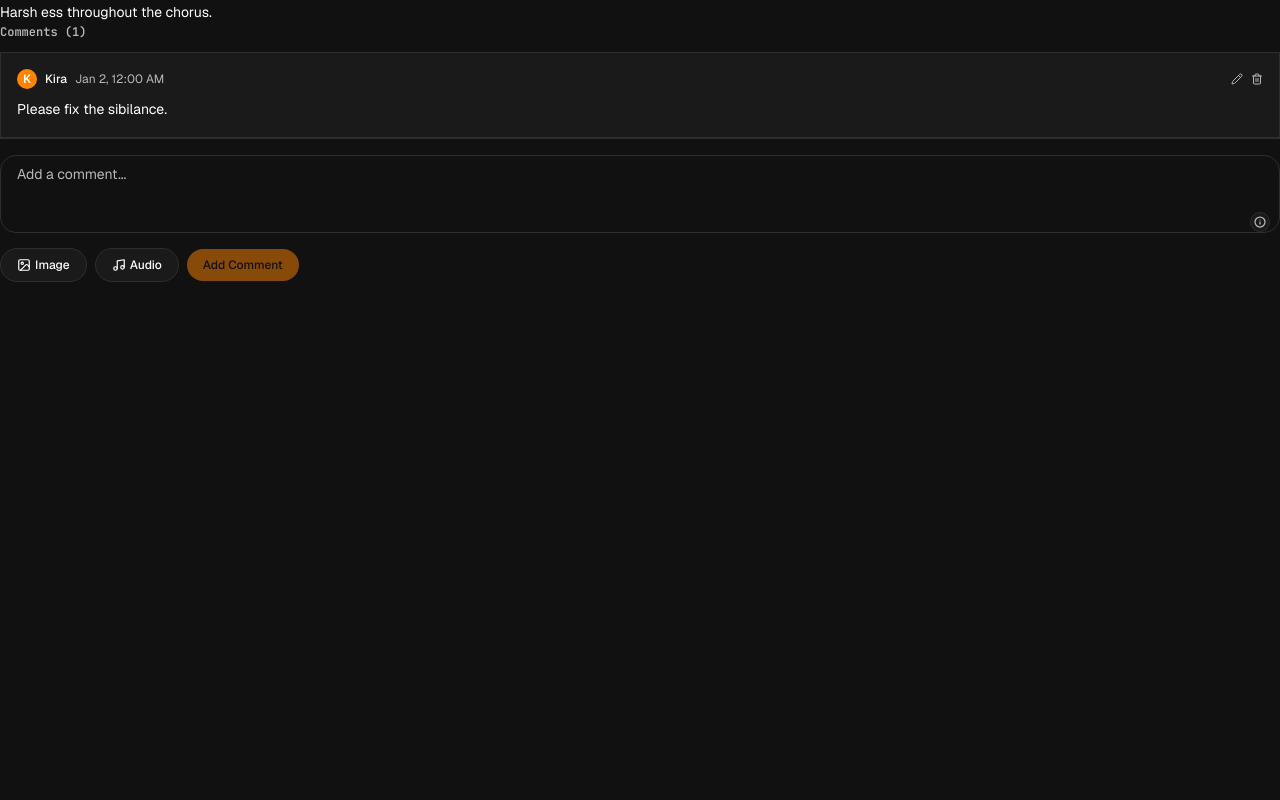
Test: IssueDetailContent › asks for confirmation before deleting a comment
Click the 2nd button at (1257, 79), box [1251,73,1263,85]
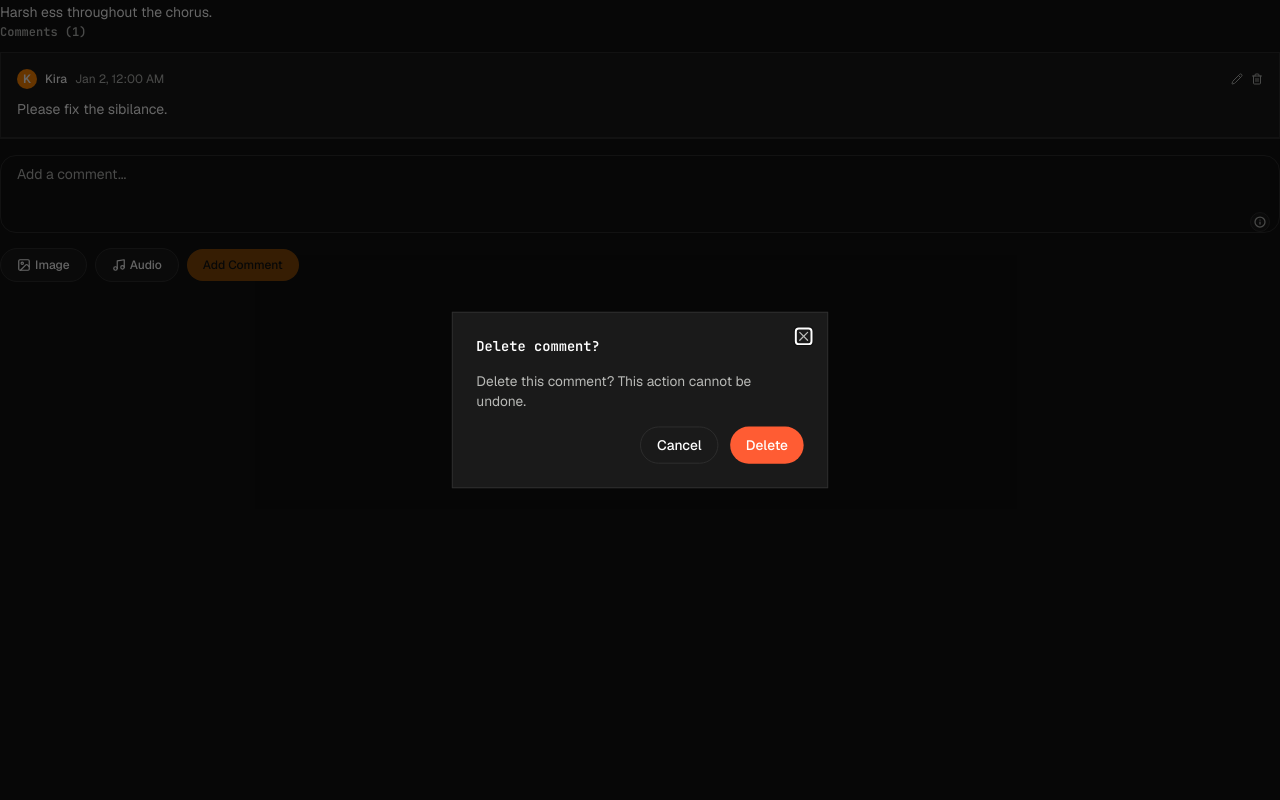
Result: the text "Delete" is shown at [476,337,600,355]
Result: the button "Delete" is shown
Click the button "Delete" at (767, 445), box [730,426,804,464]
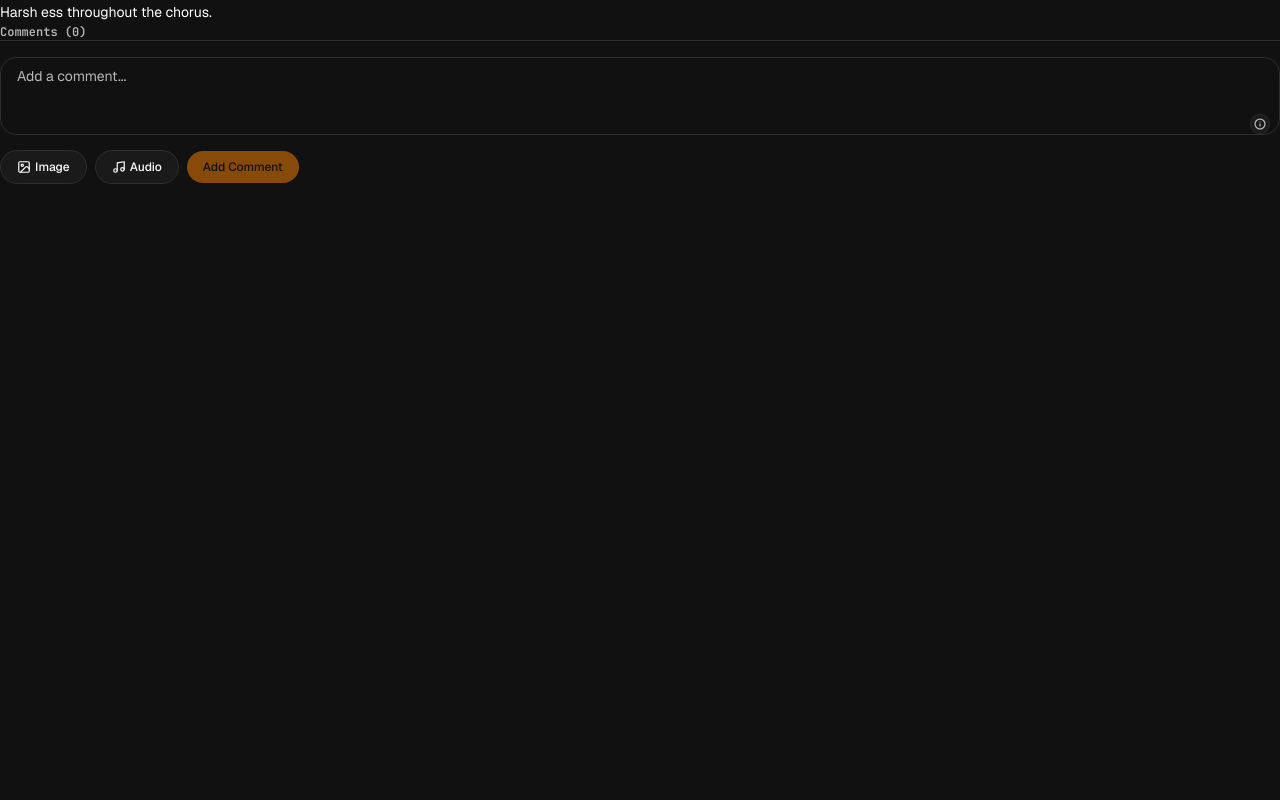
Result: the text "Please fix the sibilance." is gone
